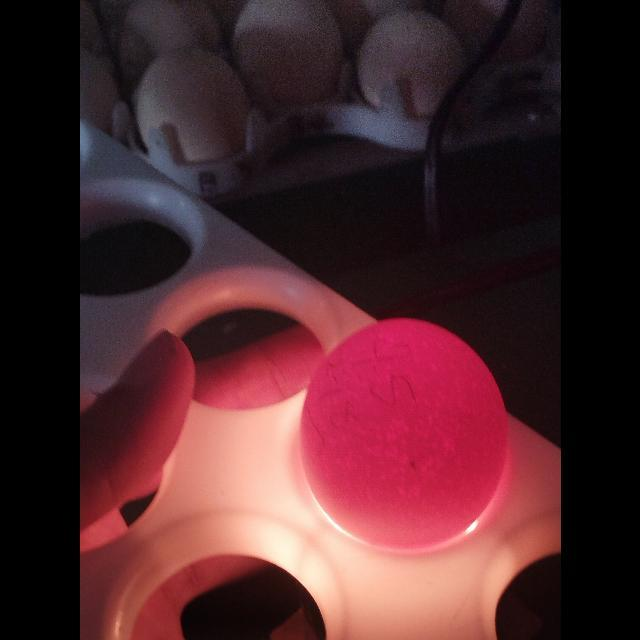Infertile: (297, 315, 511, 555)
